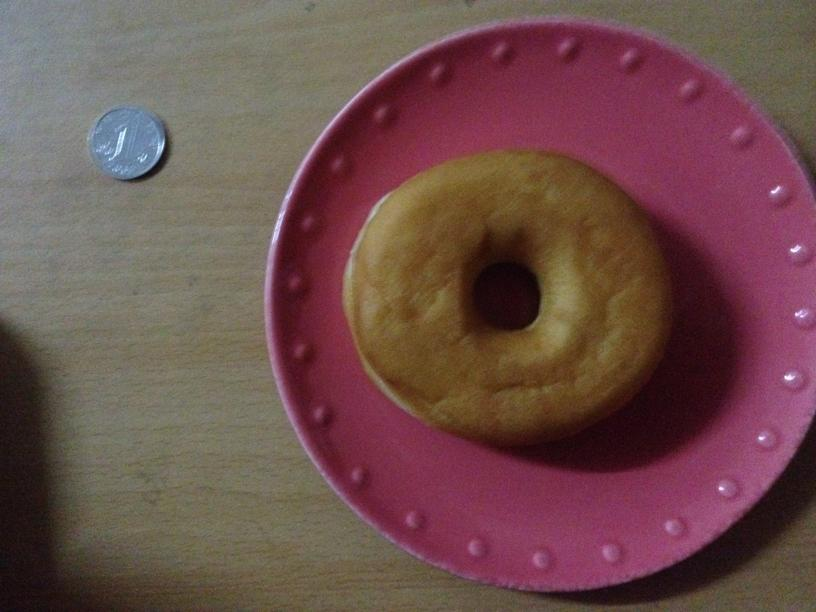coin: (91, 105, 166, 182)
doughnut: (349, 148, 661, 434)
